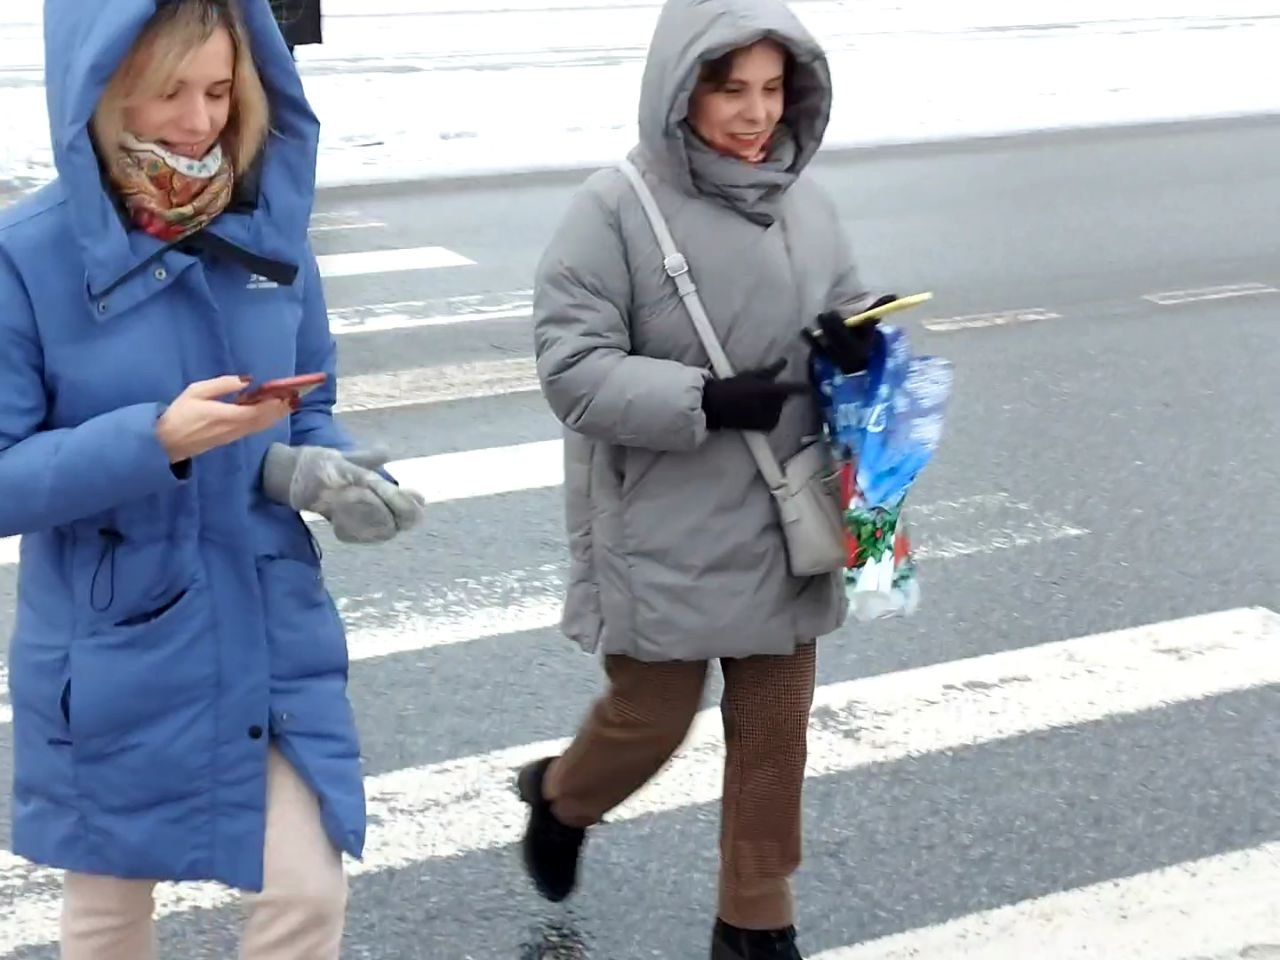sombie: (505, 11, 967, 901), (2, 1, 372, 960)
